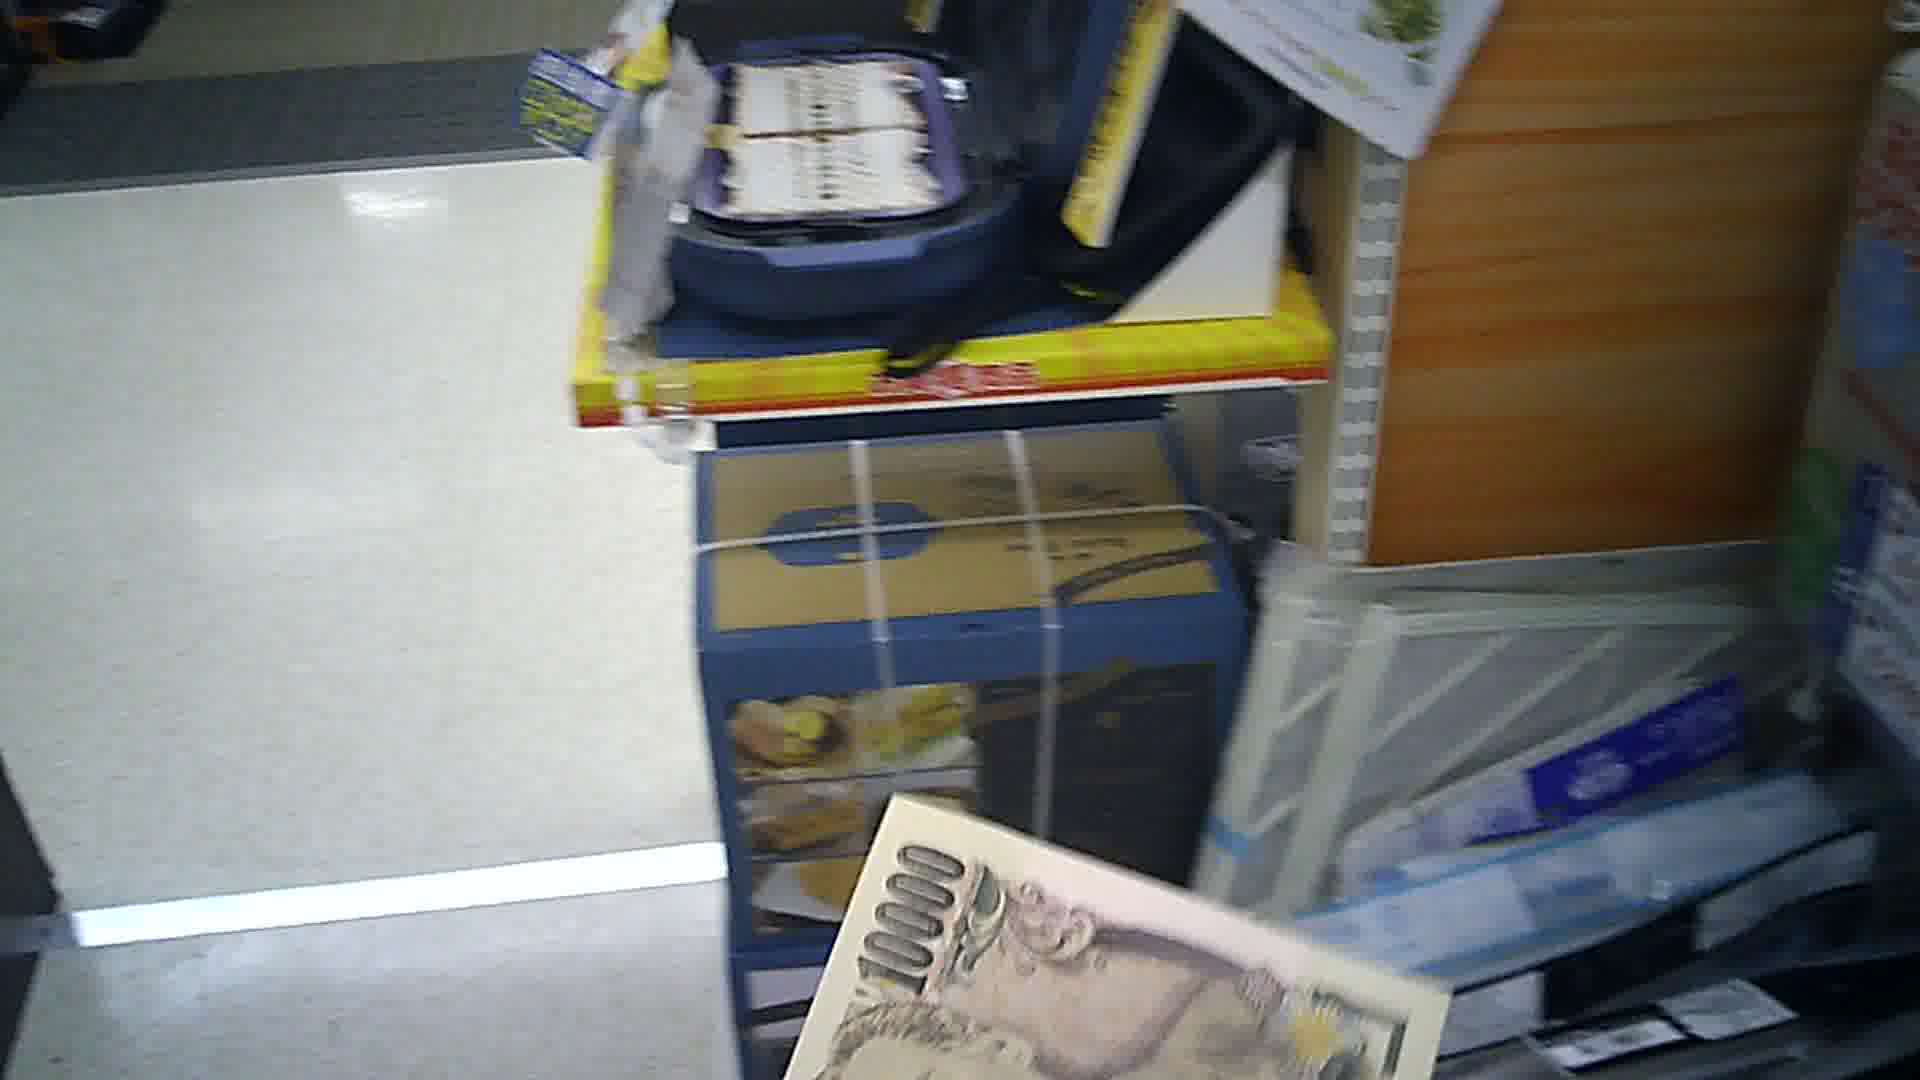10,000 Yen: (752, 791, 1449, 1079)
